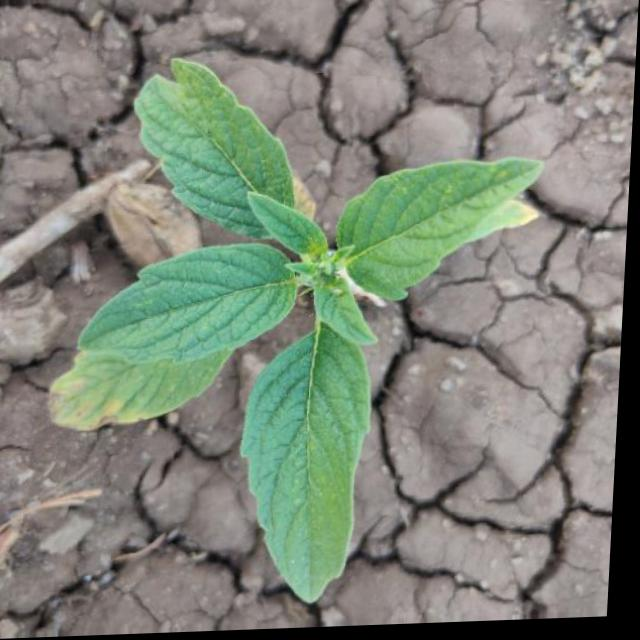crop: (44, 71, 546, 638)
